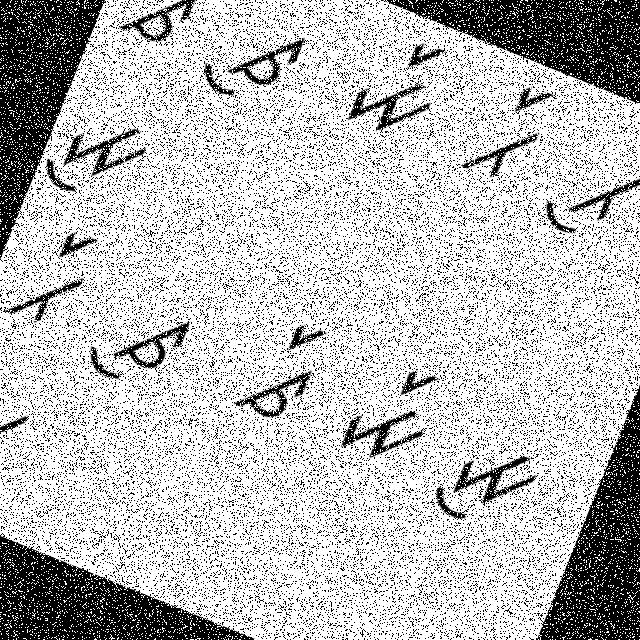bar: (449, 58, 567, 203), (0, 210, 107, 340)
baw: (532, 122, 639, 260), (0, 374, 43, 507)
car: (222, 292, 342, 435), (105, 0, 231, 68)
caw: (67, 262, 204, 402), (181, 0, 318, 134)
mar: (330, 342, 454, 481), (340, 16, 464, 151)
maw: (419, 406, 558, 554), (32, 90, 160, 226)
